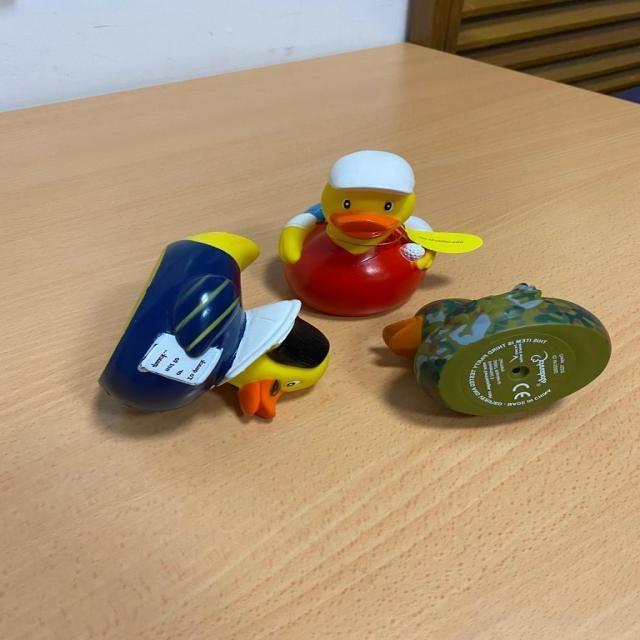rubber-duck: (98, 231, 327, 416), (278, 149, 481, 314), (413, 282, 609, 413)
